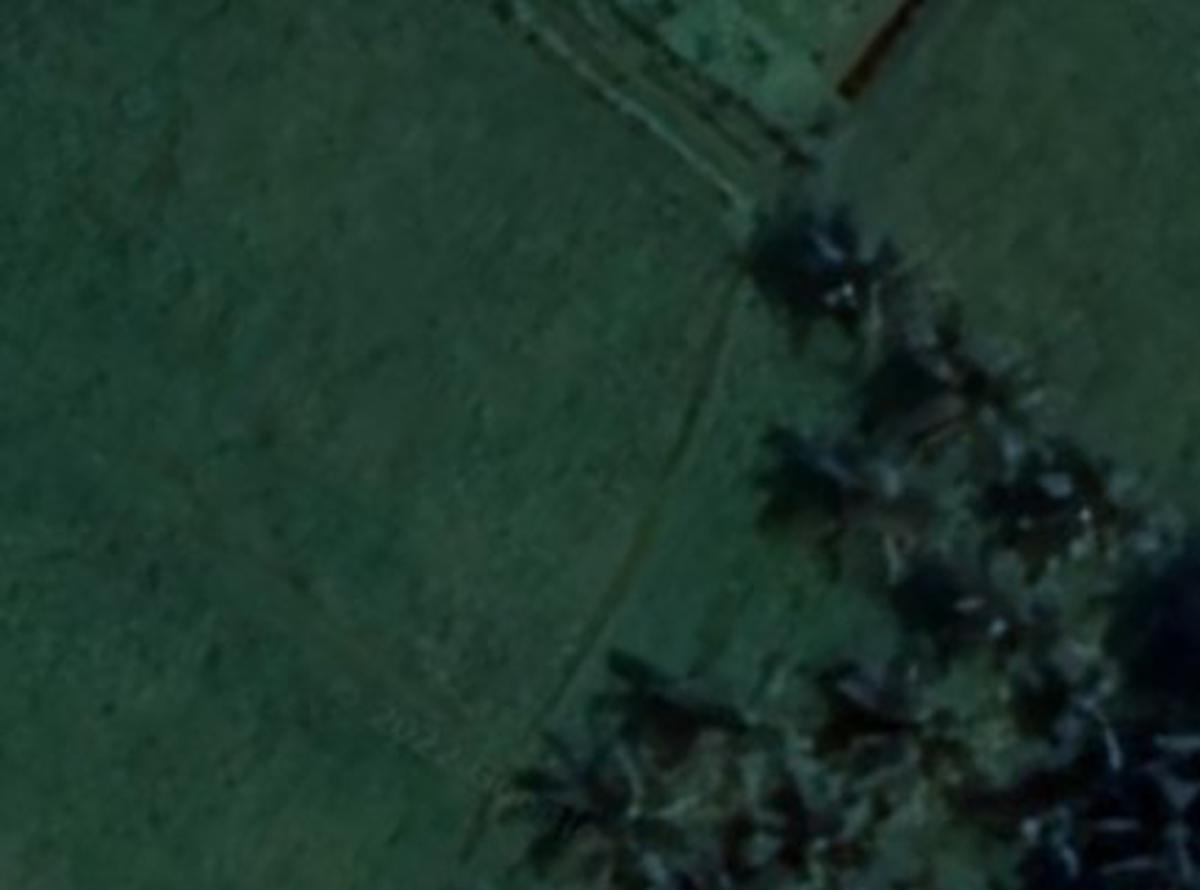coconut: (903, 321, 1050, 490), (795, 443, 953, 596), (1030, 438, 1177, 596), (562, 751, 723, 881), (825, 659, 956, 798), (1014, 640, 1136, 765), (812, 224, 925, 346)
